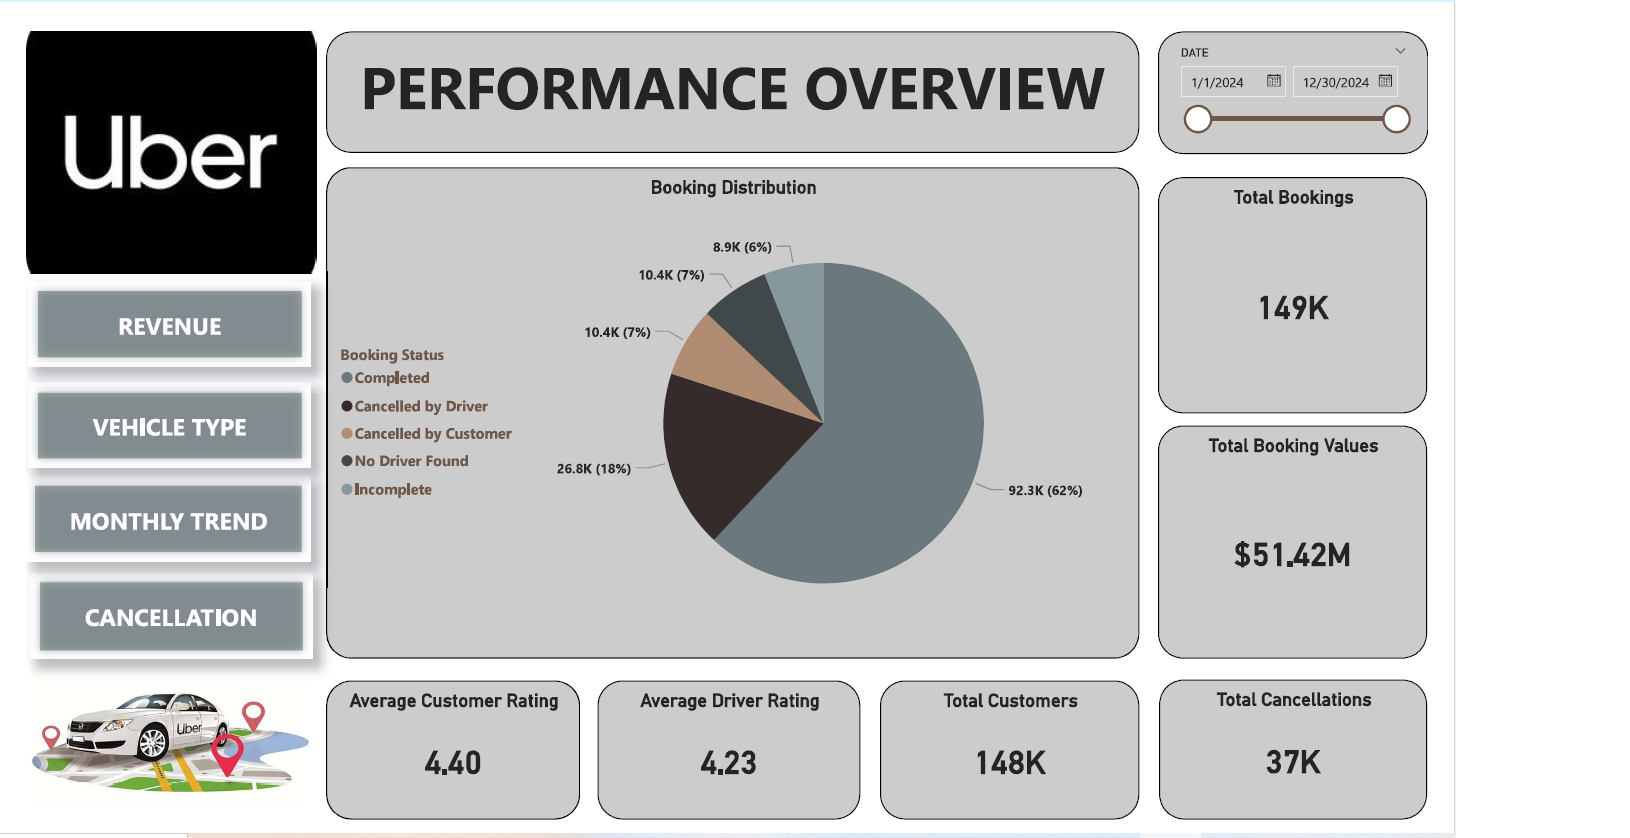

Layout of this report page (visuals, bound fields, positions):
{"tool":"powerbi","page":{"name":"Overview","canvas":[1280,720],"ordinal":0},"visuals":[{"type":"card","title":"Total Cancellations","fields":{"Values":["Booking ID.Total_Cancelled_Rides"]},"box":[1034.7,591.8,244.9,128.6],"z":0},{"type":"card","title":"Total Bookings","fields":{"Values":["Booking ID.Total_Bookings"]},"box":[1034.1,132.9,246.3,215.9],"z":1000},{"type":"pieChart","title":"Booking Distribution","fields":{"Category":["Uber_Data.Booking Status"],"Y":["CountNonNull(Uber_Data.Booking ID)"]},"box":[274.4,124.4,742.7,448.8],"z":2000},{"type":"slicer","fields":{"Values":["Uber_Data.DateTimeCombined"]},"box":[1033.8,0,246.8,111.7],"z":3000},{"type":"card","title":"Total Booking Values","fields":{"Values":["Booking ID.Total_Booking_Value"]},"box":[1034.1,359.8,246.3,213.4],"z":4000},{"type":"card","title":"Total Customers","fields":{"Values":["Booking ID.Total Customers"]},"box":[780.5,592.7,236.6,126.8],"z":5000},{"type":"card","title":"Average Driver Rating","fields":{"Values":["Avg(Uber_Data.Driver Ratings)"]},"box":[522,592.7,240.2,126.8],"z":6000},{"type":"card","title":"Average Customer Rating","fields":{"Values":["Avg(Uber_Data.Customer Rating)"]},"box":[274.4,592.7,231.7,126.8],"z":7000},{"type":"textbox","box":[274.4,0,742.7,111],"z":8000},{"type":"image","box":[0,0,264.6,220.7],"z":9000},{"type":"image","box":[2.4,573.2,262.2,146.3],"z":10000},{"type":"actionButton","box":[2.4,229.3,257.3,76.8],"z":11000},{"type":"actionButton","box":[2.4,320.7,257.3,76.8],"z":12000},{"type":"actionButton","box":[3.7,495.1,257.3,78],"z":13000},{"type":"actionButton","box":[0,407.3,259.8,76.8],"z":14000}]}

Visuals, with their boxes in screenshot pixels (x1, y1, x2, y2):
"Total Cancellations" card: rect(1160, 675, 1431, 817)
"Total Bookings" card: rect(1159, 168, 1432, 407)
"Booking Distribution" pieChart: rect(320, 159, 1141, 654)
slicer - Uber_Data.DateTimeCombined: rect(1159, 21, 1432, 145)
"Total Booking Values" card: rect(1159, 419, 1432, 654)
"Total Customers" card: rect(879, 676, 1141, 816)
"Average Driver Rating" card: rect(594, 676, 859, 816)
"Average Customer Rating" card: rect(320, 676, 576, 816)
textbox: rect(320, 21, 1141, 144)
image: rect(17, 21, 309, 265)
image: rect(20, 654, 309, 816)
actionButton: rect(20, 275, 304, 359)
actionButton: rect(20, 376, 304, 460)
actionButton: rect(21, 568, 305, 654)
actionButton: rect(17, 471, 304, 556)
